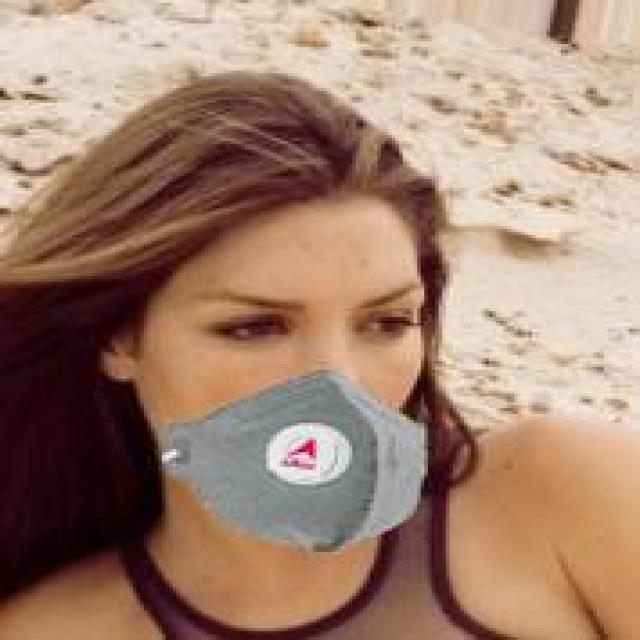mask: (65, 88, 467, 555)
